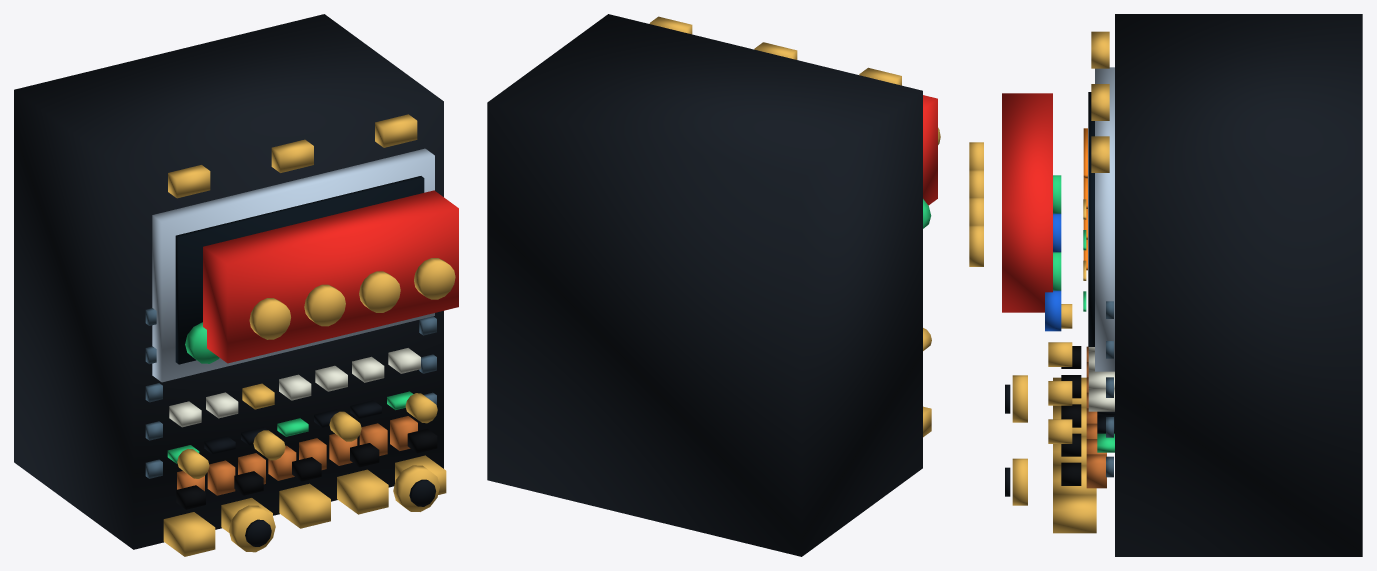
The model's file is 94_L93_W179CriticalPressurePatchStation.fbx.
3 renders of one model, left to right at view 1: azimuth 30°, elevation 25°; view 2: azimuth 150°, elevation 25°; view 3: azimuth 270°, elevation 25°, orthographic. The views are drawn at different scales.
Visible parts, largest first — view 1: L92_W179CriticalPressurePatchStation_Part_0000, L92_W179CriticalPressurePatchStation_Part_0012, L92_W179CriticalPressurePatchStation_Part_0004, L92_W179CriticalPressurePatchStation_Part_0001, L92_W179CriticalPressurePatchStation_Part_0002, L92_W179CriticalPressurePatchStation_Part_0013, L92_W179CriticalPressurePatchStation_Part_0009, L92_W179CriticalPressurePatchStation_Part_0006, L92_W179CriticalPressurePatchStation_Part_0010, L92_W179CriticalPressurePatchStation_Part_0008, L92_W179CriticalPressurePatchStation_Part_0005, L92_W179CriticalPressurePatchStation_Part_0007 (+4 smaller); view 2: L92_W179CriticalPressurePatchStation_Part_0000, L92_W179CriticalPressurePatchStation_Part_0004, L92_W179CriticalPressurePatchStation_Part_0012; view 3: L92_W179CriticalPressurePatchStation_Part_0000, L92_W179CriticalPressurePatchStation_Part_0012, L92_W179CriticalPressurePatchStation_Part_0004, L92_W179CriticalPressurePatchStation_Part_0001, L92_W179CriticalPressurePatchStation_Part_0013, L92_W179CriticalPressurePatchStation_Part_0010, L92_W179CriticalPressurePatchStation_Part_0002, L92_W179CriticalPressurePatchStation_Part_0009, L92_W179CriticalPressurePatchStation_Part_0005, L92_W179CriticalPressurePatchStation_Part_0006, L92_W179CriticalPressurePatchStation_Part_0011, L92_W179CriticalPressurePatchStation_Part_0008 (+3 smaller).
Boxes of the visible parts, x1,y1,x2,y2 form: L92_W179CriticalPressurePatchStation_Part_0000: [14, 14, 443, 549]; L92_W179CriticalPressurePatchStation_Part_0012: [203, 190, 458, 363]; L92_W179CriticalPressurePatchStation_Part_0004: [163, 114, 446, 556]; L92_W179CriticalPressurePatchStation_Part_0001: [152, 148, 434, 382]; L92_W179CriticalPressurePatchStation_Part_0002: [175, 176, 424, 364]; L92_W179CriticalPressurePatchStation_Part_0013: [249, 258, 455, 339]; L92_W179CriticalPressurePatchStation_Part_0009: [177, 416, 417, 495]; L92_W179CriticalPressurePatchStation_Part_0006: [169, 348, 420, 427]; L92_W179CriticalPressurePatchStation_Part_0010: [176, 428, 437, 509]; L92_W179CriticalPressurePatchStation_Part_0008: [145, 308, 436, 478]; L92_W179CriticalPressurePatchStation_Part_0005: [167, 322, 413, 463]; L92_W179CriticalPressurePatchStation_Part_0007: [204, 400, 381, 454]; L92_W179CriticalPressurePatchStation_Part_0000: [487, 14, 922, 556]; L92_W179CriticalPressurePatchStation_Part_0004: [649, 16, 931, 437]; L92_W179CriticalPressurePatchStation_Part_0012: [923, 95, 937, 205]; L92_W179CriticalPressurePatchStation_Part_0000: [1115, 14, 1362, 556]; L92_W179CriticalPressurePatchStation_Part_0012: [1002, 93, 1052, 312]; L92_W179CriticalPressurePatchStation_Part_0004: [1048, 31, 1109, 533]; L92_W179CriticalPressurePatchStation_Part_0001: [1095, 67, 1114, 371]; L92_W179CriticalPressurePatchStation_Part_0013: [969, 142, 983, 266]; L92_W179CriticalPressurePatchStation_Part_0010: [1061, 346, 1081, 485]; L92_W179CriticalPressurePatchStation_Part_0002: [1088, 92, 1094, 346]; L92_W179CriticalPressurePatchStation_Part_0009: [1086, 346, 1106, 488]; L92_W179CriticalPressurePatchStation_Part_0005: [1053, 175, 1114, 452]; L92_W179CriticalPressurePatchStation_Part_0006: [1088, 347, 1114, 411]; L92_W179CriticalPressurePatchStation_Part_0011: [1045, 213, 1061, 331]; L92_W179CriticalPressurePatchStation_Part_0008: [1106, 301, 1113, 477].
Size of the model in its own units: 102 by 117 by 108.
